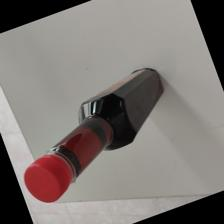Namngu: (24, 67, 165, 207)
